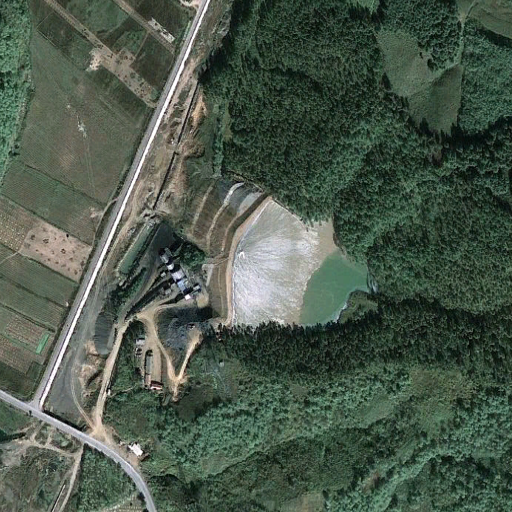tp: (184, 171, 374, 328)
